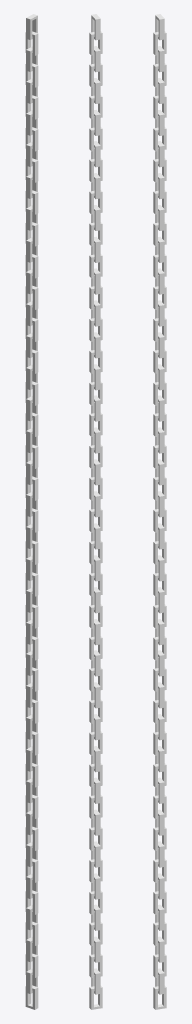
Rendered from Chain 1.fbx.
3 views of the same model, side by side, from view 1: azimuth 90°, elevation 25°; view 2: azimuth 150°, elevation 25°; view 3: azimuth 330°, elevation 25° (orthographic).
Parts seen in each view (by area): view 1: Chain 1; view 2: Chain 1; view 3: Chain 1.
Boxes of the visible parts, bbox=[...] form: Chain 1: bbox=[25, 14, 38, 1009]; Chain 1: bbox=[89, 14, 102, 1009]; Chain 1: bbox=[153, 14, 166, 1009].
Size of the model in its own units: 47.09 by 3978 by 47.09.
Materials: 1 (1 with a texture image).
